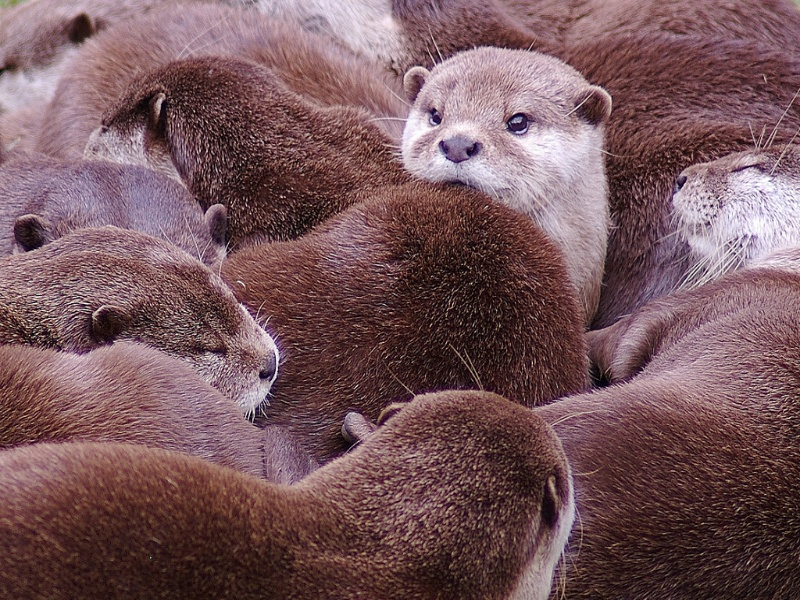minkish: (1, 382, 583, 599), (1, 218, 282, 423), (390, 45, 619, 217), (670, 132, 800, 282)
